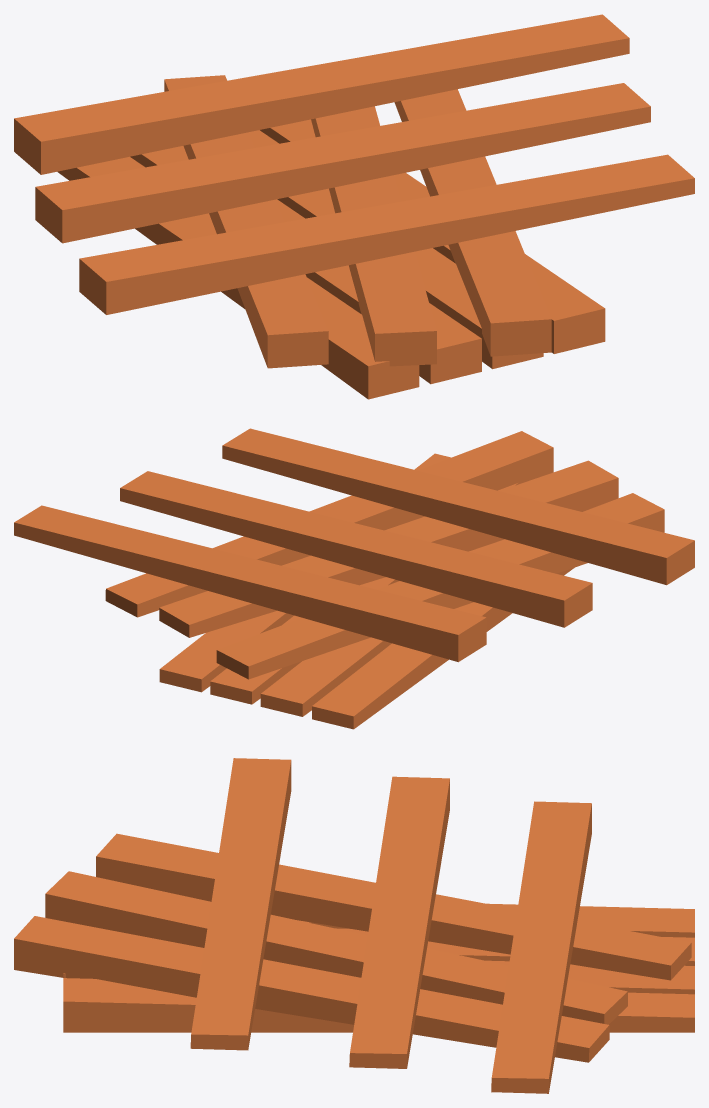
The model's file is Carrot Strips.fbx.
The picture shows the model from 3 angles, top to bottom: view 1: azimuth 30°, elevation 25°; view 2: azimuth 150°, elevation 25°; view 3: azimuth 270°, elevation 25°; orthographic projection. The views are drawn at different scales.
Visible parts, largest first — view 1: Cube.008, Cube.007, Cube.009, Cube.004, Cube.003, Cube.005, Cube.001, Cube.006, Cube, Cube.002; view 2: Cube.009, Cube.008, Cube.007, Cube.004, Cube.003, Cube.005, Cube.001, Cube, Cube.006, Cube.002; view 3: Cube.004, Cube.005, Cube.003, Cube.007, Cube.009, Cube.008, Cube.006, Cube.001, Cube.002, Cube.
Boxes of the visible parts, x1,y1,x2,y2 form: Cube.008: (35, 83, 650, 243); Cube.007: (79, 154, 694, 314); Cube.009: (14, 14, 629, 174); Cube.004: (394, 89, 551, 356); Cube.003: (311, 106, 436, 366); Cube.005: (164, 75, 328, 368); Cube.001: (57, 156, 419, 399); Cube.006: (260, 119, 605, 353); Cube: (130, 146, 481, 384); Cube.002: (248, 130, 543, 369); Cube.009: (14, 505, 486, 662); Cube.008: (120, 471, 592, 627); Cube.007: (222, 428, 694, 585); Cube.004: (105, 431, 553, 617); Cube.003: (159, 460, 618, 637); Cube.005: (216, 493, 664, 679); Cube.001: (312, 567, 574, 729); Cube: (260, 539, 507, 716); Cube.006: (159, 453, 450, 692); Cube.002: (210, 483, 518, 704); Cube.004: (14, 916, 609, 1062); Cube.005: (96, 833, 691, 980); Cube.003: (45, 871, 627, 1024); Cube.007: (190, 758, 291, 1050); Cube.009: (491, 801, 591, 1093); Cube.008: (349, 776, 449, 1068); Cube.006: (63, 978, 694, 1032); Cube.001: (298, 903, 694, 937); Cube.002: (63, 960, 694, 994); Cube: (335, 928, 694, 965).
Bounding box in the file's own units: 672 × 89.94 × 635.
